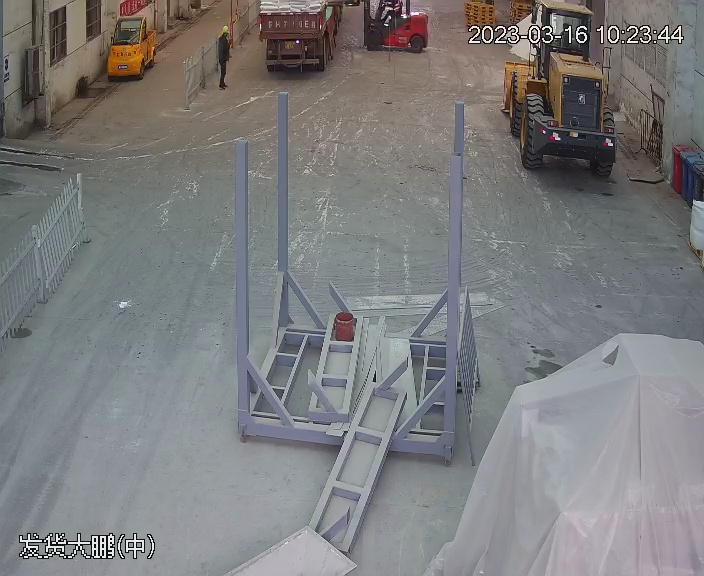head: (217, 26, 232, 45)
helmet: (221, 26, 229, 32)
people: (215, 24, 233, 90)
truck: (255, 0, 350, 74)
